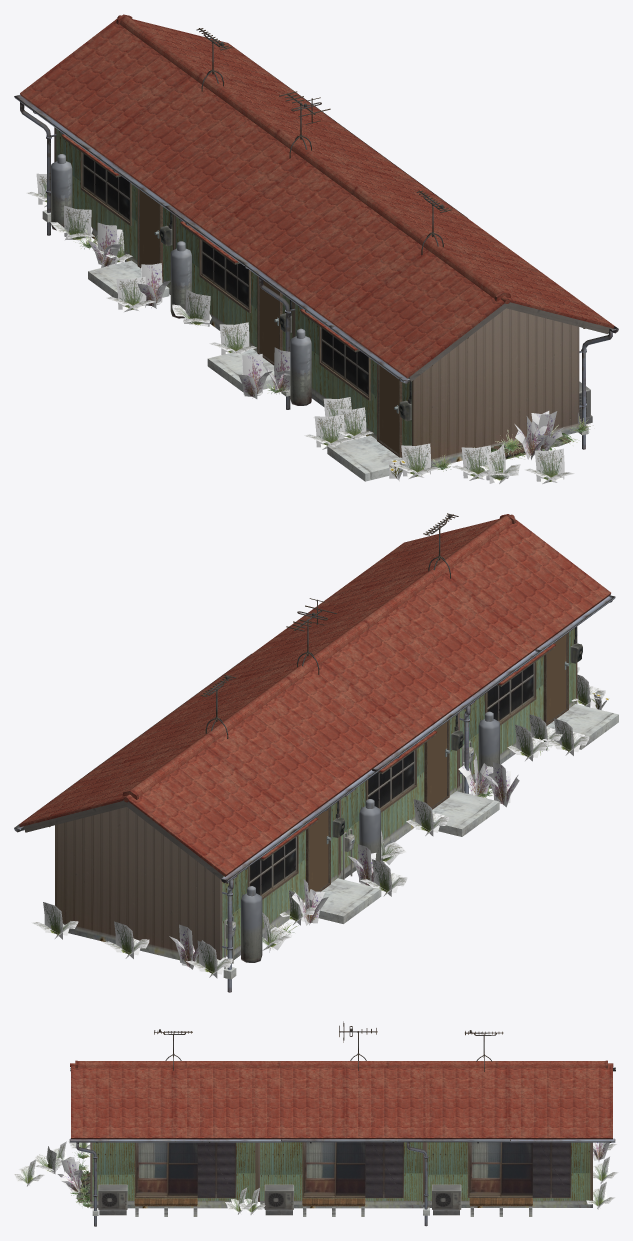
The model's file is houseset17.fbx.
3 views of the same model, one above another, from view 1: azimuth 30°, elevation 25°; view 2: azimuth 150°, elevation 25°; view 3: azimuth 270°, elevation 25° (orthographic). The views are drawn at different scales.
Parts seen in each view (by area): view 1: houseset17; view 2: houseset17; view 3: houseset17.
Part boxes in pixels (x1,y1,x2,y2): houseset17: (14,14,618,483); houseset17: (14,513,618,992); houseset17: (14,1021,618,1226).
Bounding box in the file's own units: 573 × 1632 × 508.
10 materials, 10 textured.
